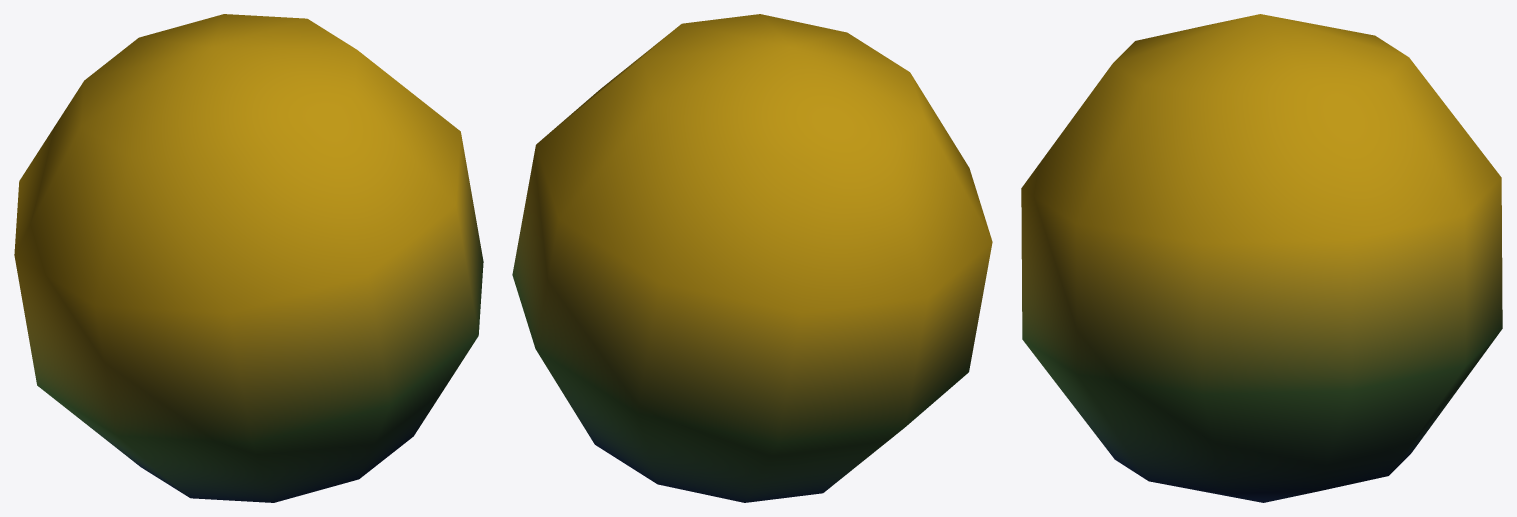
The model's file is Alien_Spore01.fbx.
3 views of the same model, side by side, from view 1: azimuth 30°, elevation 25°; view 2: azimuth 150°, elevation 25°; view 3: azimuth 270°, elevation 25° (orthographic). The views are drawn at different scales.
Parts seen in each view (by area): view 1: Alien_Spore01; view 2: Alien_Spore01; view 3: Alien_Spore01.
Part boxes in pixels (x1,y1,x2,y2): Alien_Spore01: (14, 14, 483, 502); Alien_Spore01: (512, 14, 992, 502); Alien_Spore01: (1021, 14, 1502, 502).
Bounding box in the file's own units: 975 × 998 × 964.
